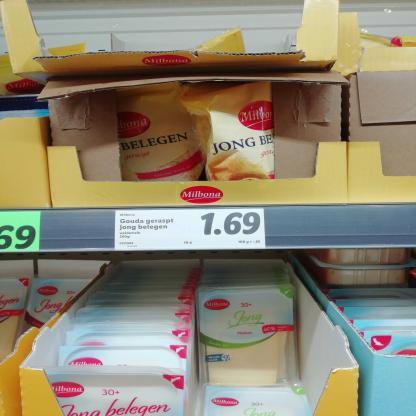prtg: (115, 209, 266, 251)
